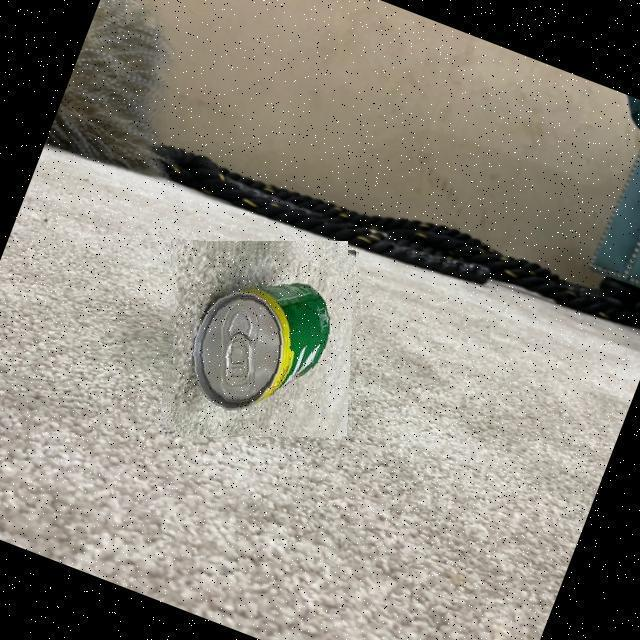recyclable: (163, 242, 356, 436)
